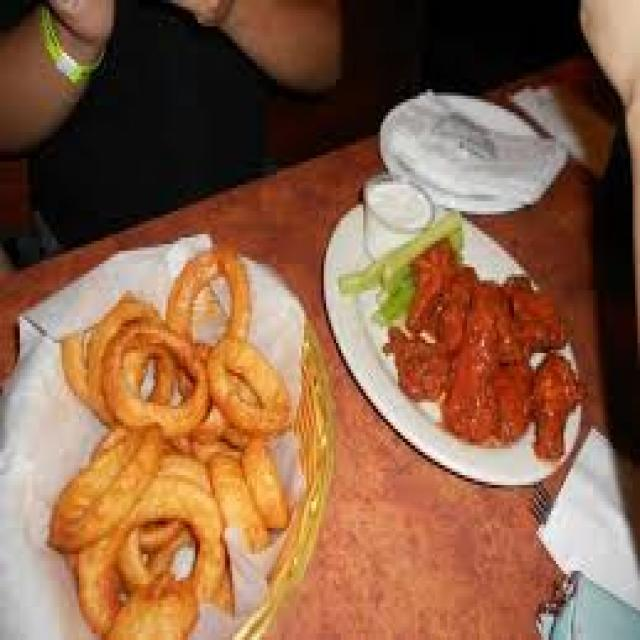Chicken Wings: (368, 241, 593, 468)
Onion Rings: (47, 241, 306, 637)
